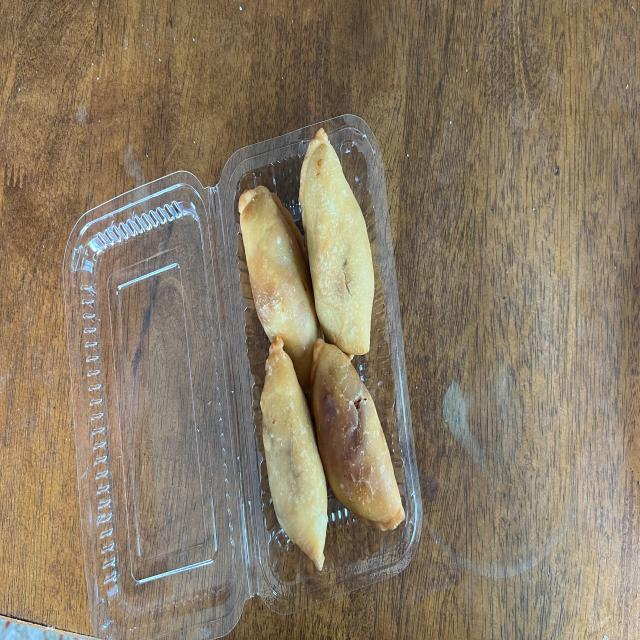karipap: (310, 338, 405, 531), (239, 184, 321, 391), (300, 129, 374, 356), (260, 336, 328, 571)
